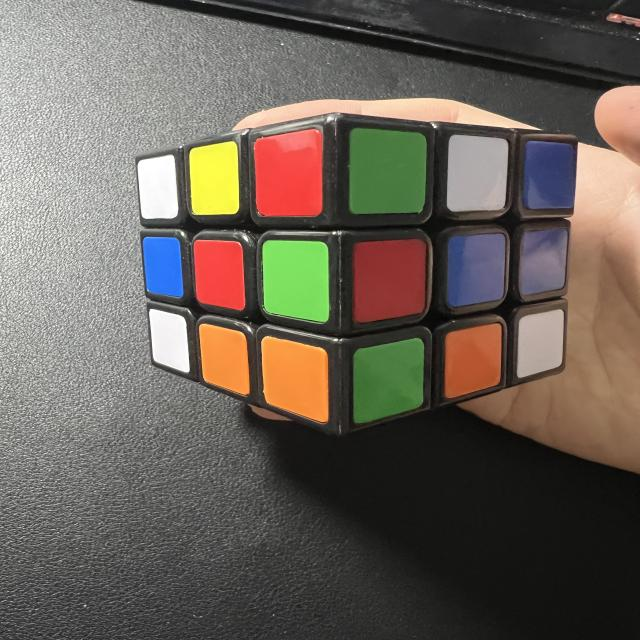blue: (524, 140, 575, 209), (520, 229, 568, 296), (143, 233, 185, 302)
center: (447, 233, 507, 308), (194, 237, 244, 310)
green: (345, 128, 427, 216), (354, 336, 425, 424), (262, 239, 328, 322)
orange: (260, 335, 328, 426), (443, 323, 505, 399), (200, 318, 249, 400)
red: (253, 125, 323, 215), (353, 238, 425, 324)
white: (448, 132, 507, 213), (518, 306, 564, 381), (149, 306, 189, 378), (138, 153, 179, 220)
yellow: (188, 138, 241, 216)
